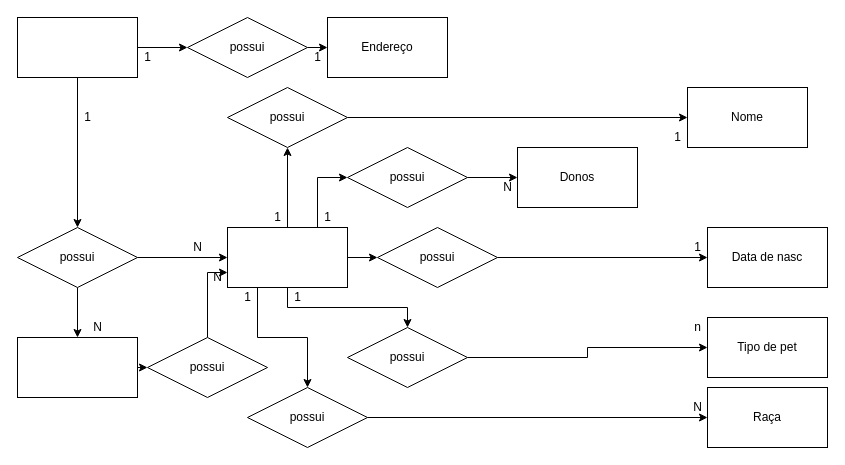
Image size: 845x465. Some labels were removed from this diagram. Each missing label, with the centre of its shape:
Clinica: point 77,47
pet: point 287,257
VETERINARIO: point 77,367
